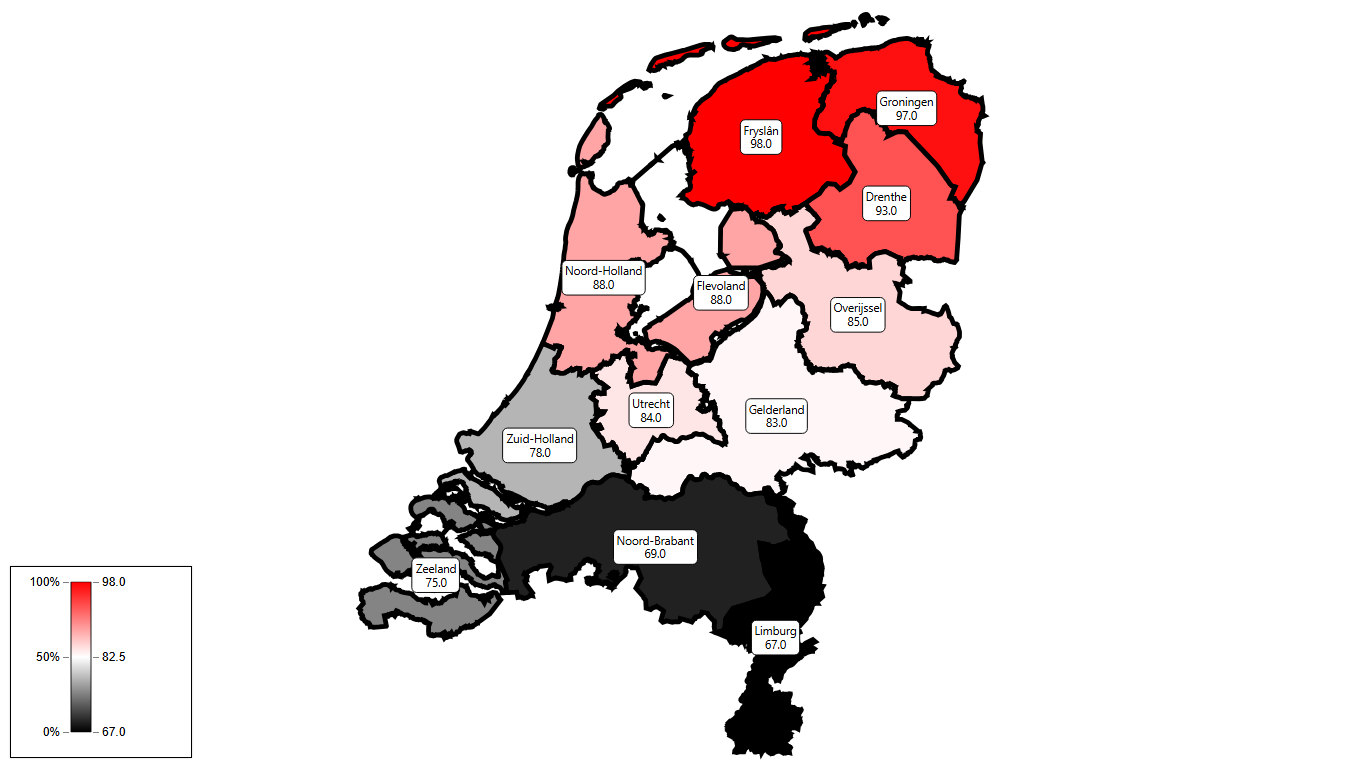

What the dashboard file says about the page in this screenshot:
{"tool":"powerbi","page":{"name":"Provincies","canvas":[1366,768],"ordinal":2},"visuals":[{"type":"nederlandseRegiokaarten8EDA3FD18CF8418282BDFCA73E3C5F4A","title":"Gemiddelde score per provincie","fields":{"category":["Provincies.Statcode"],"measure":["Provincies.Provinciescore"]},"box":[16,16,1334,736],"z":0}]}

Visuals, with their boxes in screenshot pixels (x1, y1, x2, y2), scaled from the page's 1366x768 canvas onto the 1366x768 screenshot:
"Gemiddelde score per provincie" nederlandseRegiokaarten8EDA3FD18CF8418282BDFCA73E3C5F4A: 16, 16, 1350, 752
